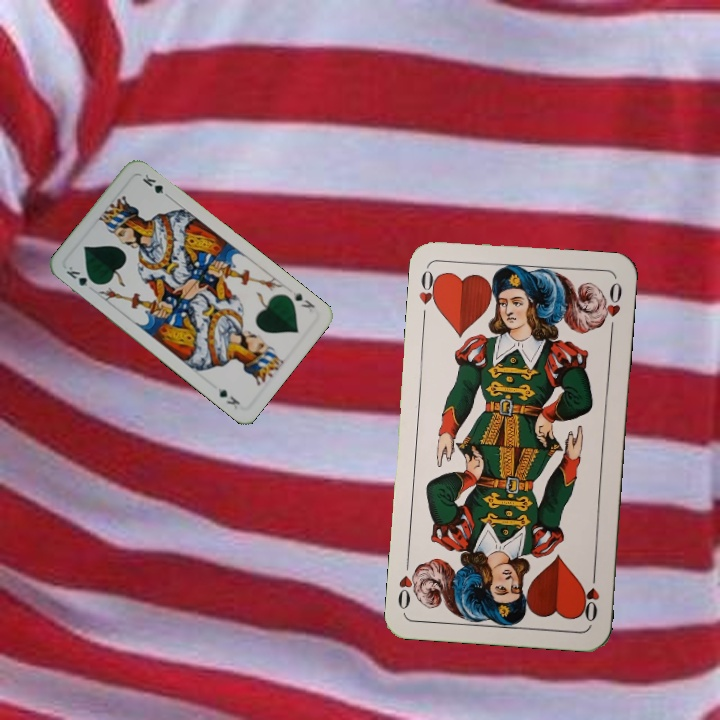GK: (62, 262, 99, 289), (289, 287, 317, 311)
HO: (415, 264, 442, 323), (578, 567, 602, 625)
